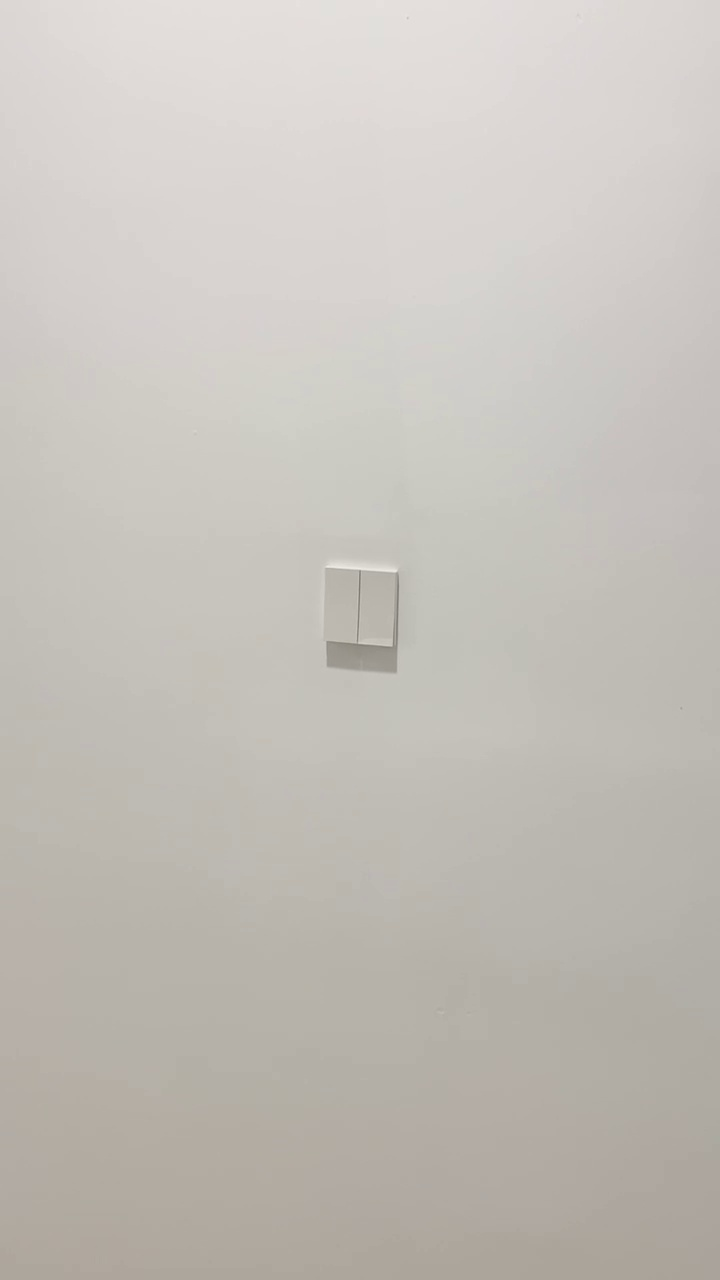button: (318, 559, 407, 655)
